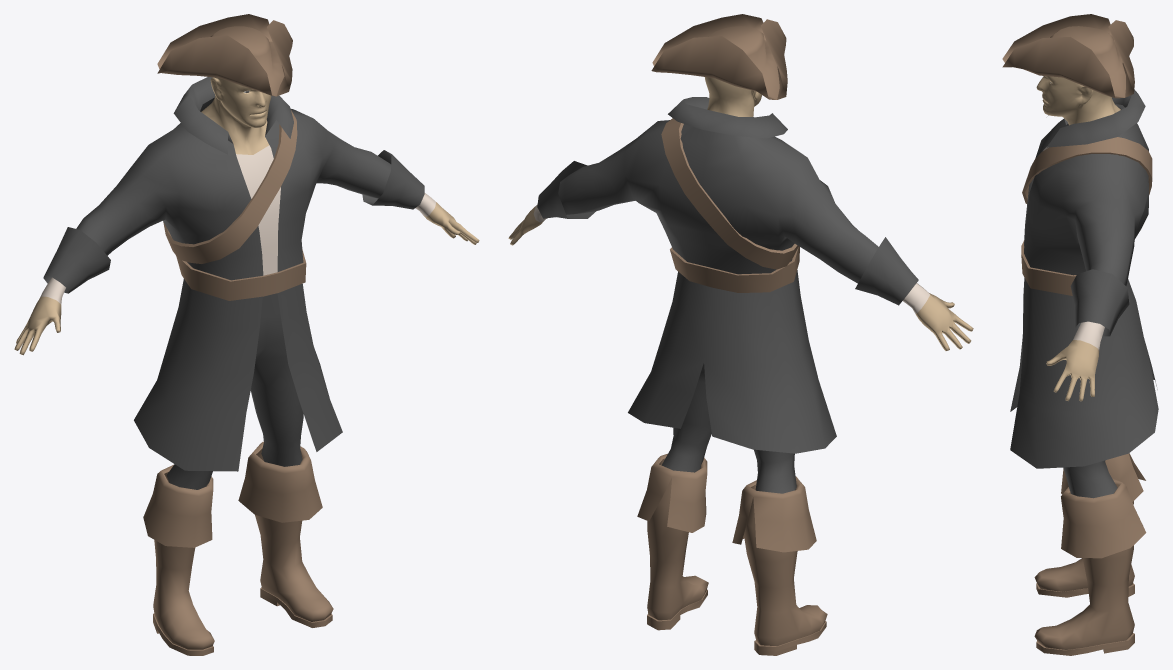
The model's file is pirate.glb.
3 views of the same model, side by side, from view 1: azimuth 30°, elevation 25°; view 2: azimuth 150°, elevation 25°; view 3: azimuth 270°, elevation 25° (orthographic).
Parts seen in each view (by area): view 1: Pirate; view 2: Pirate; view 3: Pirate.
Boxes of the visible parts, x1,y1,x2,y2 form: Pirate: [14, 14, 479, 655]; Pirate: [508, 14, 973, 655]; Pirate: [1002, 14, 1158, 655].
Bounding box in the file's own units: 1.52 × 1.91 × 0.4552.
